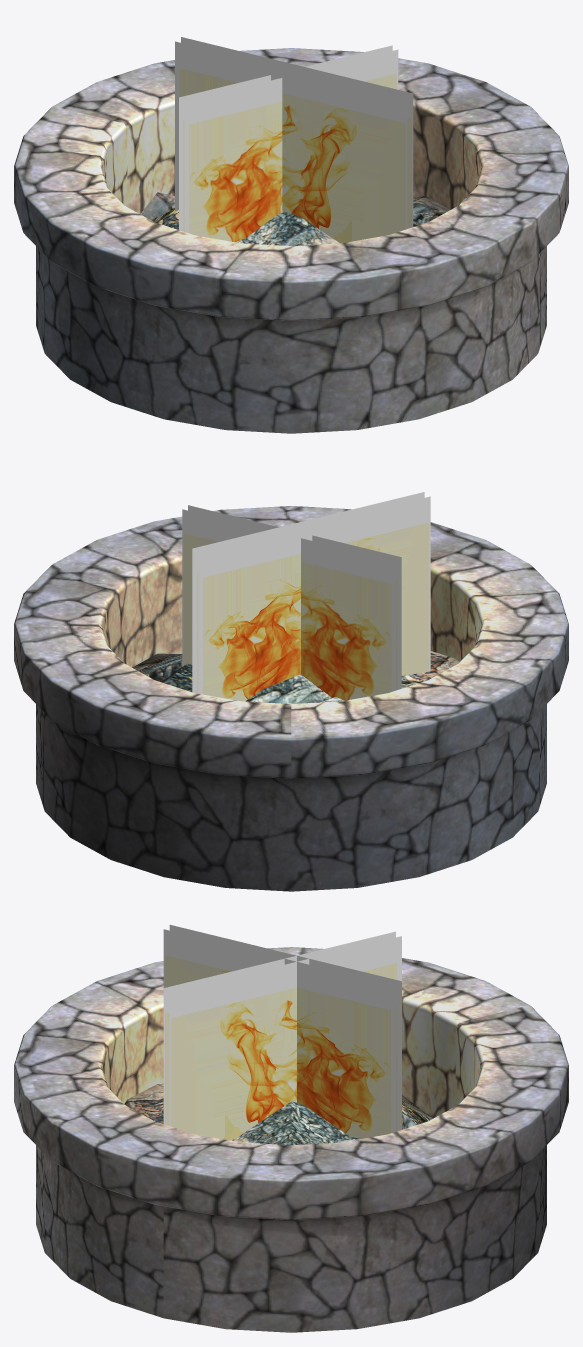
Rendered from fire pit.fbx.
The picture shows the model from 3 angles, top to bottom: view 1: azimuth 30°, elevation 25°; view 2: azimuth 150°, elevation 25°; view 3: azimuth 270°, elevation 25°; orthographic projection.
Visible parts, largest first — view 1: firepit, fire3; view 2: firepit, fire3; view 3: firepit, fire3.
Part boxes in pixels (x1,y1,x2,y2): firepit: [14, 48, 568, 433]; fire3: [175, 37, 413, 243]; firepit: [14, 506, 568, 891]; fire3: [182, 492, 430, 701]; firepit: [14, 947, 568, 1332]; fire3: [163, 924, 401, 1140].
Bounding box in the file's own units: 1.25 × 0.6488 × 1.25.
Materials: 2 (2 with a texture image).
